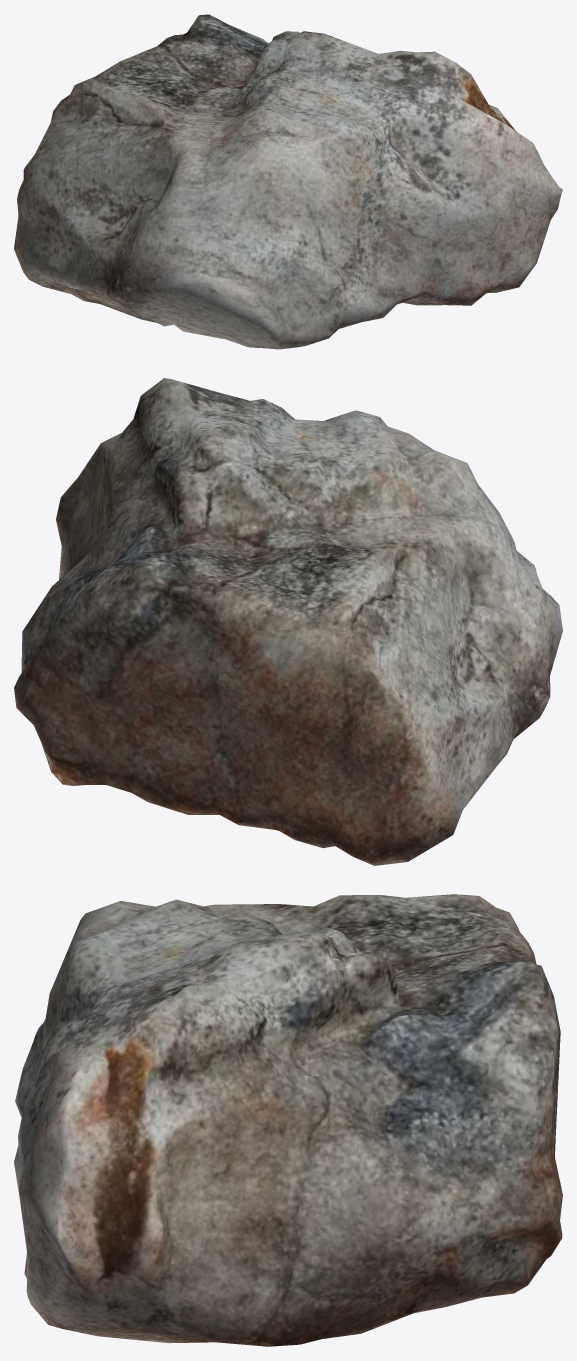
File: rock2.glb
3 renders of one model, top to bottom at view 1: azimuth 30°, elevation 25°; view 2: azimuth 150°, elevation 25°; view 3: azimuth 270°, elevation 25°, orthographic. The views are drawn at different scales.
Visible parts, largest first — view 1: pfwvv_LOD0_TIER2_000_MatID_1_0; view 2: pfwvv_LOD0_TIER2_000_MatID_1_0; view 3: pfwvv_LOD0_TIER2_000_MatID_1_0.
Part boxes in pixels (x1=…): pfwvv_LOD0_TIER2_000_MatID_1_0: x1=14, y1=14, x2=562, y2=349; pfwvv_LOD0_TIER2_000_MatID_1_0: x1=14, y1=378, x2=562, y2=865; pfwvv_LOD0_TIER2_000_MatID_1_0: x1=14, y1=894, x2=562, y2=1346.
Bounding box in the file's own units: 0.43 × 0.2429 × 0.3436.
Materials: 1 (1 with a texture image).
